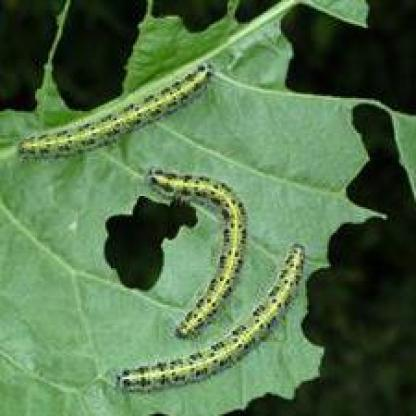armyworm: (113, 235, 309, 398), (14, 63, 223, 174), (147, 165, 252, 342)
